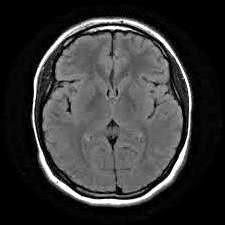Normal_Brain: (3, 1, 225, 223)
